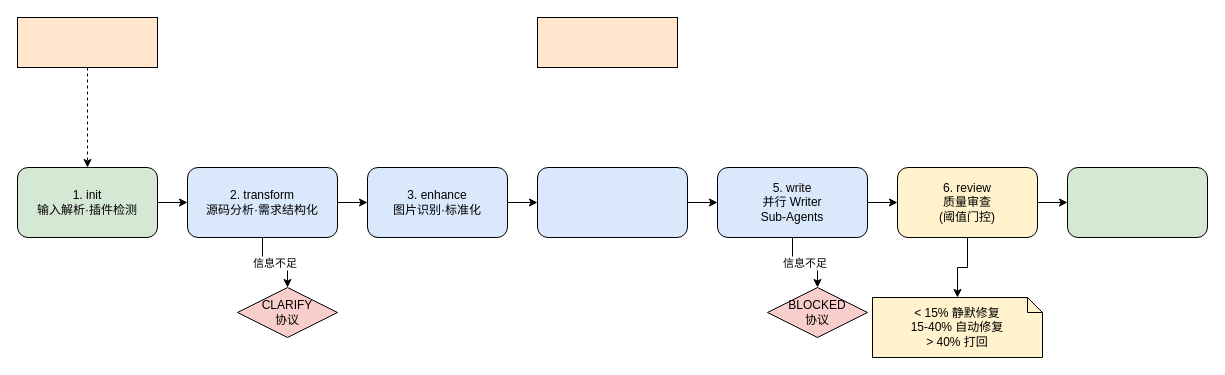
This 1225x375 diagram has some shape labels left out. The shapes that lost their labels are listed below. From the top down, each one's centre as x and y in pixels, then its label:
point (87, 42): Plugin Hooks (lanhu/zentao)
point (607, 42): 断点续传 state.ts
point (612, 202): 4. analyze 历史检索·脑暴清单
point (1137, 202): 7. output XMind + MD + 通知
